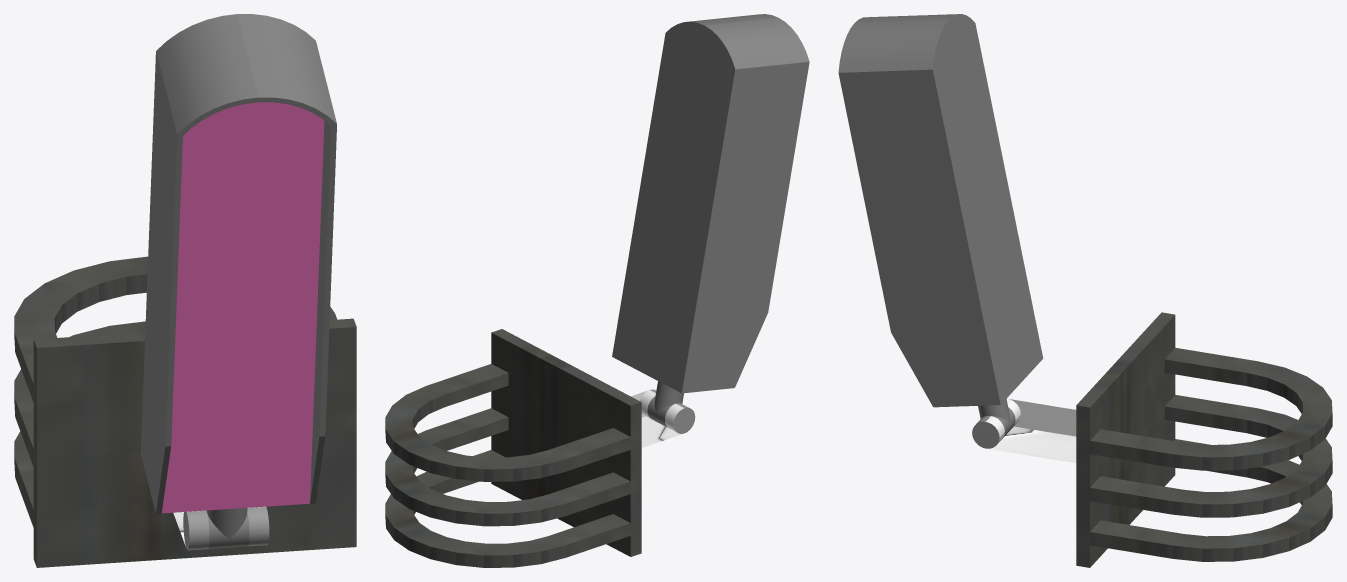
Rendered from sensor-receptor.glb.
The picture shows the model from 3 angles, left to right: view 1: azimuth 30°, elevation 25°; view 2: azimuth 150°, elevation 25°; view 3: azimuth 270°, elevation 25°; orthographic projection. The views are drawn at different scales.
Parts seen in each view (by area): view 1: Componente_3_1, Componente_1_1, Al_a1, Componente_4_1, Al_a3, Al_a2; view 2: Componente_3_1, Componente_1_1, Al_a1, Al_a3, Al_a2, Componente_4_1; view 3: Componente_3_1, Componente_1_1, Al_a1, Al_a3, Al_a2, Componente_4_1.
Part boxes in pixels (x1,y1,x2,y2): Componente_3_1: (140,14,336,548); Componente_1_1: (33,318,356,567); Al_a1: (14,256,337,402); Componente_4_1: (173,506,269,550); Al_a3: (14,321,145,466); Al_a2: (14,431,33,527); Componente_3_1: (612,14,809,427); Componente_1_1: (491,329,641,556); Al_a1: (385,364,630,481); Al_a3: (385,408,630,526); Al_a2: (385,450,630,567); Componente_4_1: (631,389,695,447); Componente_3_1: (838,14,1043,438); Componente_1_1: (1076,312,1175,567); Al_a1: (1090,347,1332,470); Al_a3: (1090,395,1332,517); Al_a2: (1090,439,1332,561); Componente_4_1: (972,398,1076,462).
Bounding box in the file's own units: 0.2091 × 0.3532 × 0.335.
Materials: 5 (1 with a texture image).
